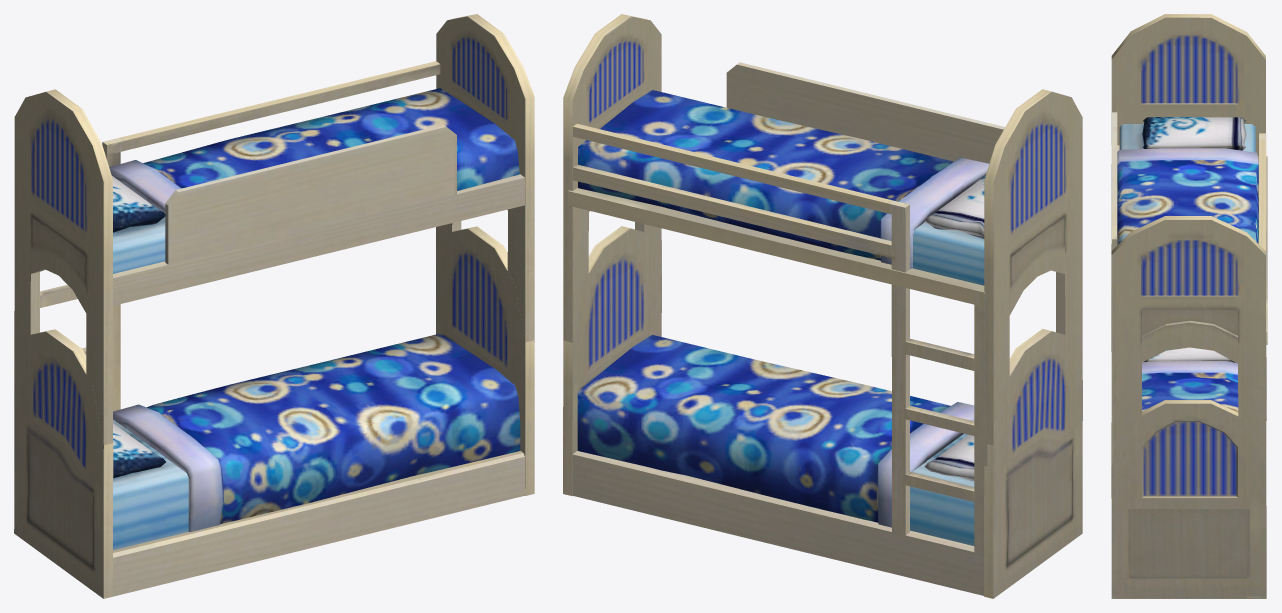
File: furni_0200502.FBX
3 renders of one model, left to right at view 1: azimuth 30°, elevation 25°; view 2: azimuth 150°, elevation 25°; view 3: azimuth 270°, elevation 25°, orthographic. The views are drawn at different scales.
Visible parts, largest first — view 1: furni_0200502; view 2: furni_0200502; view 3: furni_0200502.
Boxes of the visible parts, <box> form: furni_0200502: <box>14,14,534,598</box>; furni_0200502: <box>563,14,1082,598</box>; furni_0200502: <box>1111,14,1267,598</box>.
Bounding box in the file's own units: 217 × 224 × 78.85.
1 material, 1 textured.
